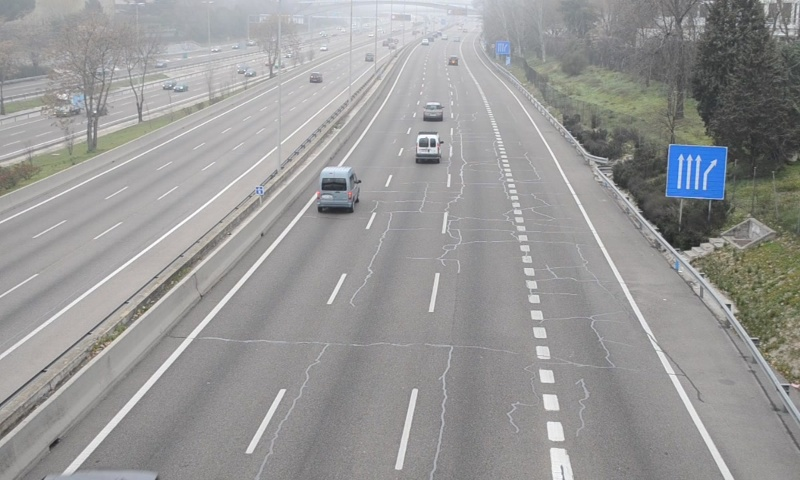car: (422, 102, 444, 122)
van: (316, 168, 359, 210), (416, 132, 440, 164)
